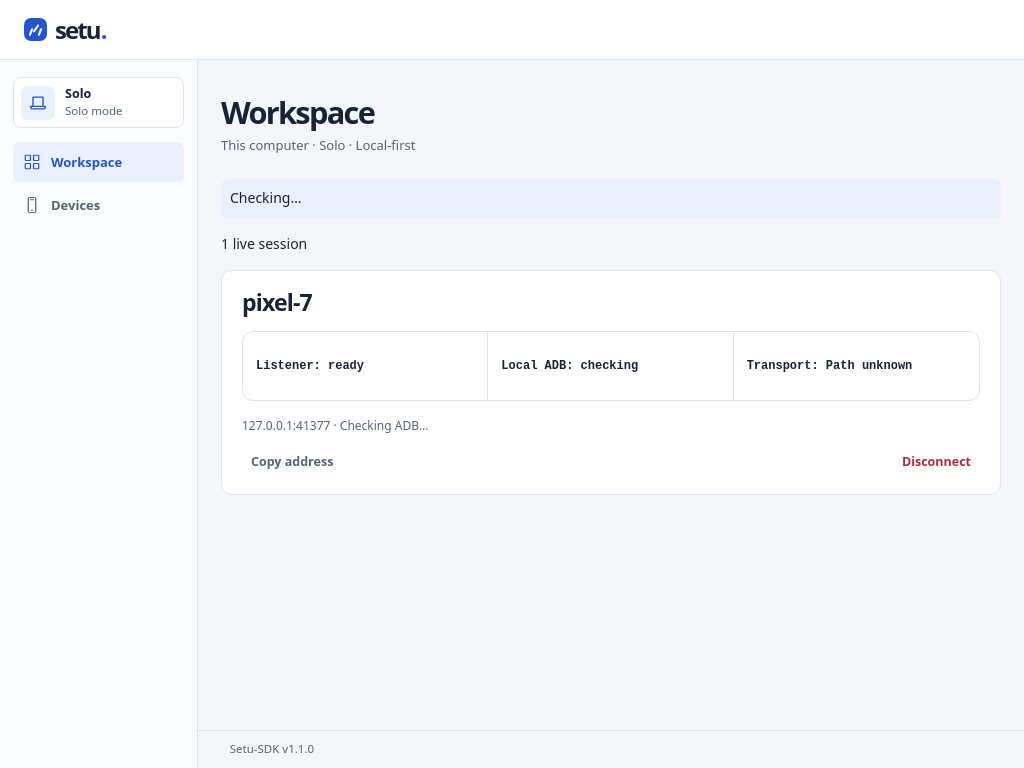
it: App shell navigation › switches to Devices, focuses its heading and hides the session cards
Expected: the element that starts with "pixel-7" is shown, x1=221 y1=270 x2=1001 y2=495
Step 1. Click the button "Devices" → (98, 205), box x1=13 y1=185 x2=184 y2=225
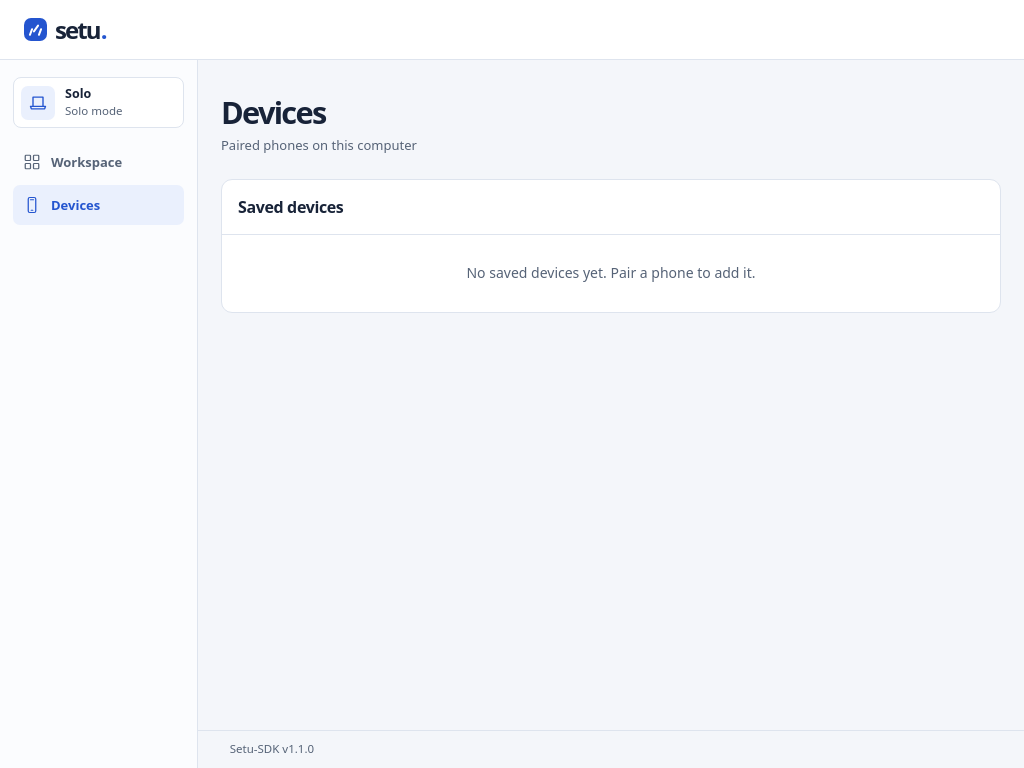
Now the text "Paired phones on this computer" is shown, box x1=221 y1=136 x2=417 y2=155
Now the heading "Saved devices" is shown, box x1=222 y1=180 x2=1000 y2=235
